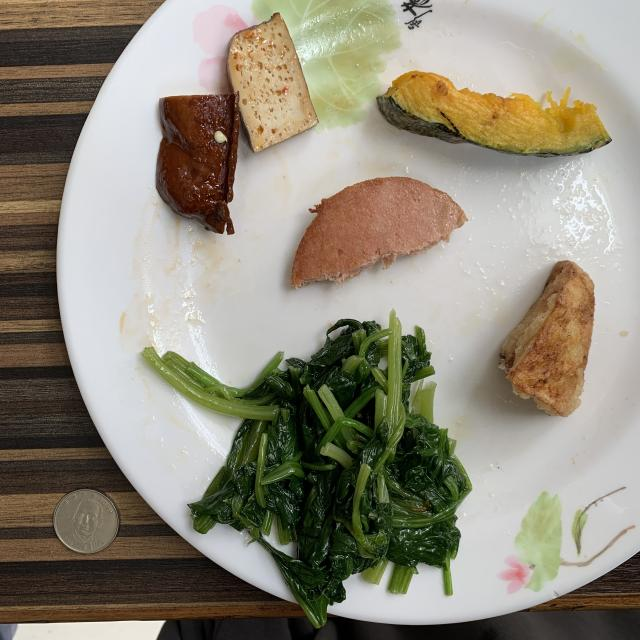Spam: (291, 178, 466, 288)
coin: (54, 489, 119, 554)
firm tofu: (156, 12, 319, 234)
fried potato: (499, 260, 595, 416)
mustard greens: (141, 311, 471, 628)
pumpkin: (376, 71, 611, 156)
